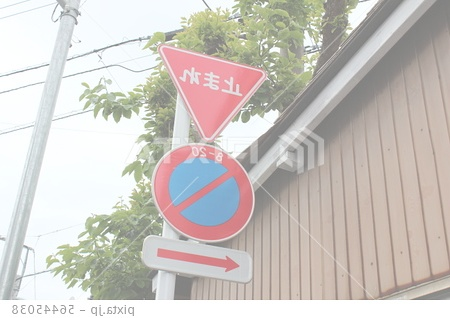Prohibition_sign: (146, 127, 264, 250)
